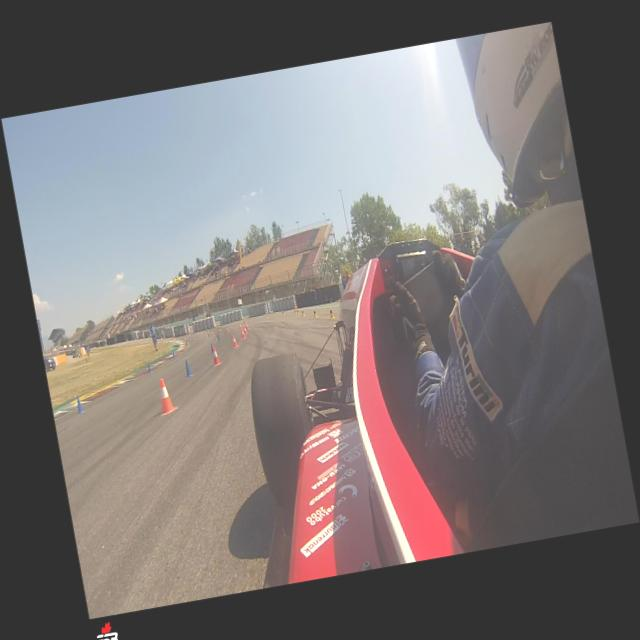orange_cone: (154, 376, 178, 415), (210, 345, 222, 366), (230, 333, 237, 348), (240, 328, 245, 338), (242, 326, 246, 334), (244, 323, 248, 329), (238, 324, 242, 328)
unknown_cone: (76, 394, 84, 413), (184, 358, 192, 377), (146, 362, 152, 373), (210, 342, 213, 353), (171, 350, 175, 358), (217, 334, 220, 341), (215, 331, 218, 337)
yellow_cone: (328, 307, 334, 319), (312, 308, 318, 318), (301, 309, 305, 316), (294, 308, 296, 314), (296, 309, 298, 314), (282, 310, 284, 315), (266, 312, 268, 317)
